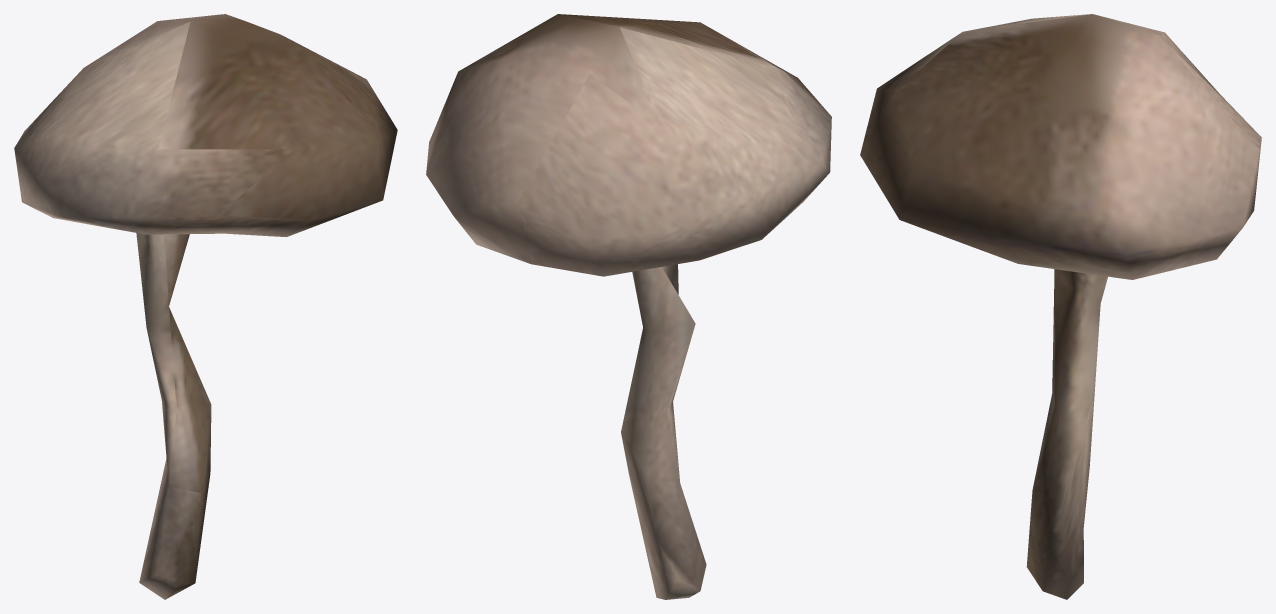
Rendered from fungus-pale-b.gltf.
3 views of the same model, side by side, from view 1: azimuth 30°, elevation 25°; view 2: azimuth 150°, elevation 25°; view 3: azimuth 270°, elevation 25° (orthographic). The views are drawn at different scales.
Visible parts, largest first — view 1: fungus-pale-b; view 2: fungus-pale-b; view 3: fungus-pale-b.
Part boxes in pixels (x1,y1,x2,y2): fungus-pale-b: (14,14,397,599); fungus-pale-b: (426,14,831,599); fungus-pale-b: (860,14,1261,599).
Size of the model in its own units: 0.2218 by 0.3424 by 0.208.
Materials: 1 (1 with a texture image).
